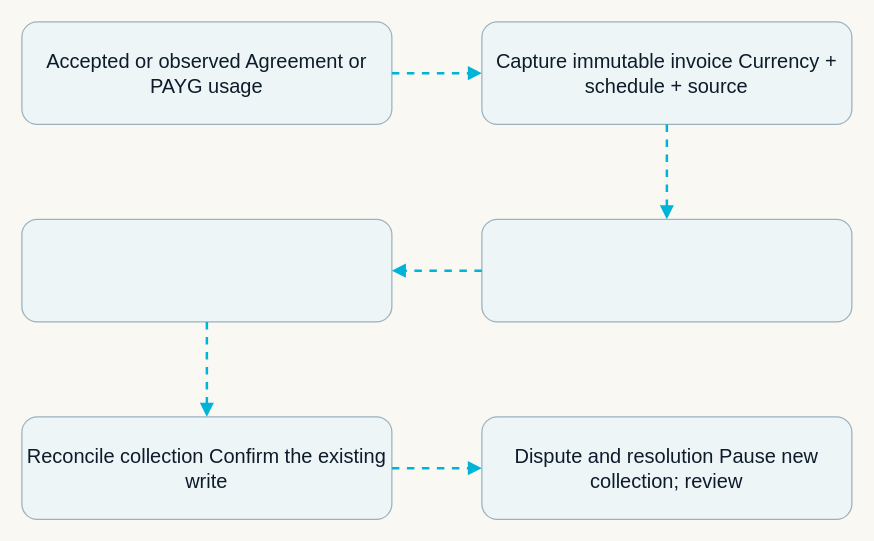
Image size: 874x541. Some labels were removed from this diagram. Here are the shapes that lost their labels. From the top down, the box of each, then its label:
(21, 218, 392, 322): Provider records payment Independent simulated receipt
(481, 218, 852, 322): Reserve payment amount Due date + remaining balance
